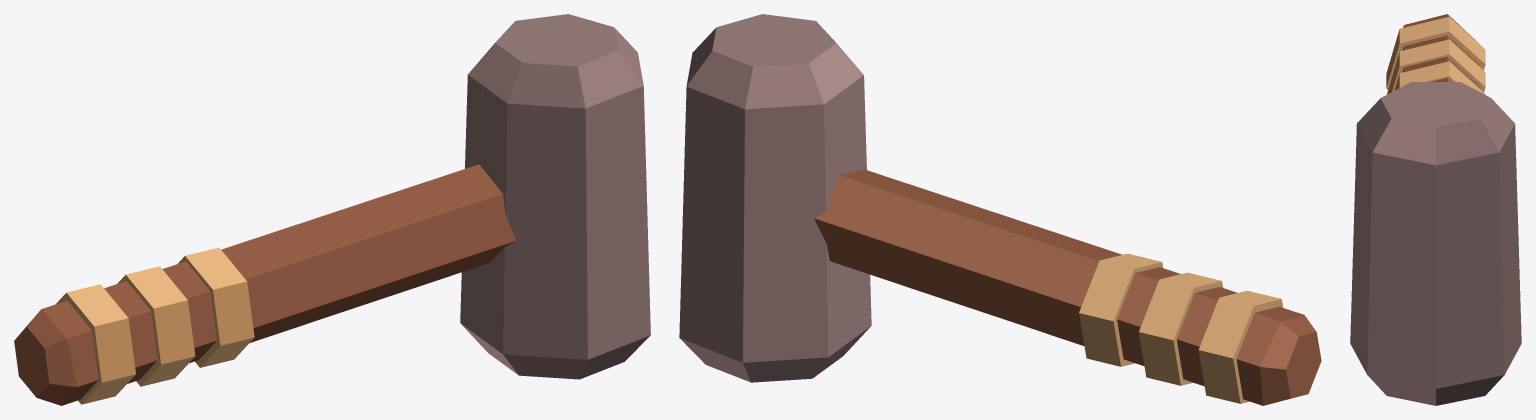
Rendered from Stone_Hammer.glb.
3 views of the same model, side by side, from view 1: azimuth 30°, elevation 25°; view 2: azimuth 150°, elevation 25°; view 3: azimuth 270°, elevation 25° (orthographic). The views are drawn at different scales.
Parts seen in each view (by area): view 1: Chunky stone hammer head, Hewn hammer grip, Pale binding, Pale binding.001, Pale binding.002; view 2: Chunky stone hammer head, Hewn hammer grip, Pale binding, Pale binding.001, Pale binding.002; view 3: Chunky stone hammer head, Pale binding, Pale binding.001, Pale binding.002, Hewn hammer grip.
Part boxes in pixels (x1,y1,x2,y2): Chunky stone hammer head: [460, 14, 650, 379]; Hewn hammer grip: [14, 164, 516, 405]; Pale binding: [56, 284, 135, 404]; Pale binding.001: [117, 266, 195, 386]; Pale binding.002: [178, 247, 254, 367]; Chunky stone hammer head: [679, 14, 871, 382]; Hewn hammer grip: [814, 169, 1321, 405]; Pale binding: [1198, 290, 1283, 403]; Pale binding.001: [1139, 272, 1223, 385]; Pale binding.002: [1079, 253, 1163, 366]; Chunky stone hammer head: [1350, 82, 1521, 405]; Pale binding: [1386, 17, 1485, 89]; Pale binding.001: [1387, 39, 1485, 94]; Pale binding.002: [1394, 61, 1485, 94]; Hewn hammer grip: [1402, 14, 1479, 88].
Size of the model in its own units: 0.93 by 0.45 by 0.2535.
Materials: 1 (1 with a texture image).
